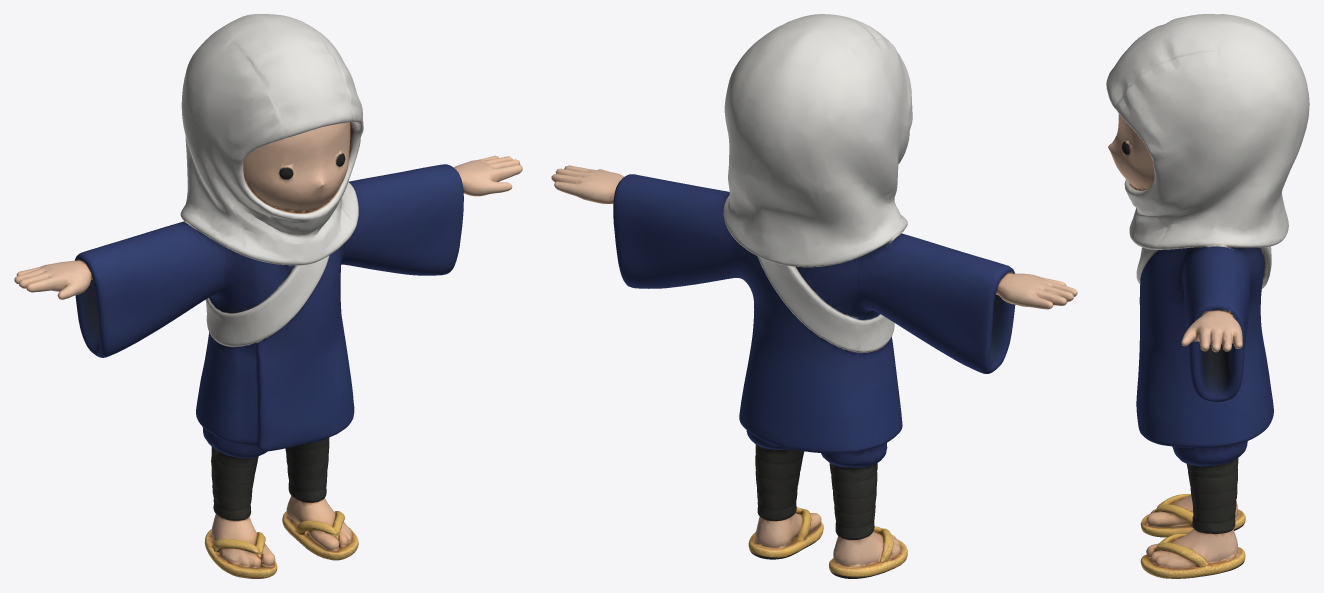
File: kaku_blue_hi.fbx
3 renders of one model, left to right at view 1: azimuth 30°, elevation 25°; view 2: azimuth 150°, elevation 25°; view 3: azimuth 270°, elevation 25°, orthographic. The views are drawn at different scales.
Visible parts, largest first — view 1: kaku_blue_hi; view 2: kaku_blue_hi; view 3: kaku_blue_hi.
Part boxes in pixels (x1,y1,x2,y2): kaku_blue_hi: (14,14,522,578); kaku_blue_hi: (551,14,1077,578); kaku_blue_hi: (1106,14,1309,578).
Bounding box in the file's own units: 170 × 169 × 58.94.
1 material, 1 textured.
